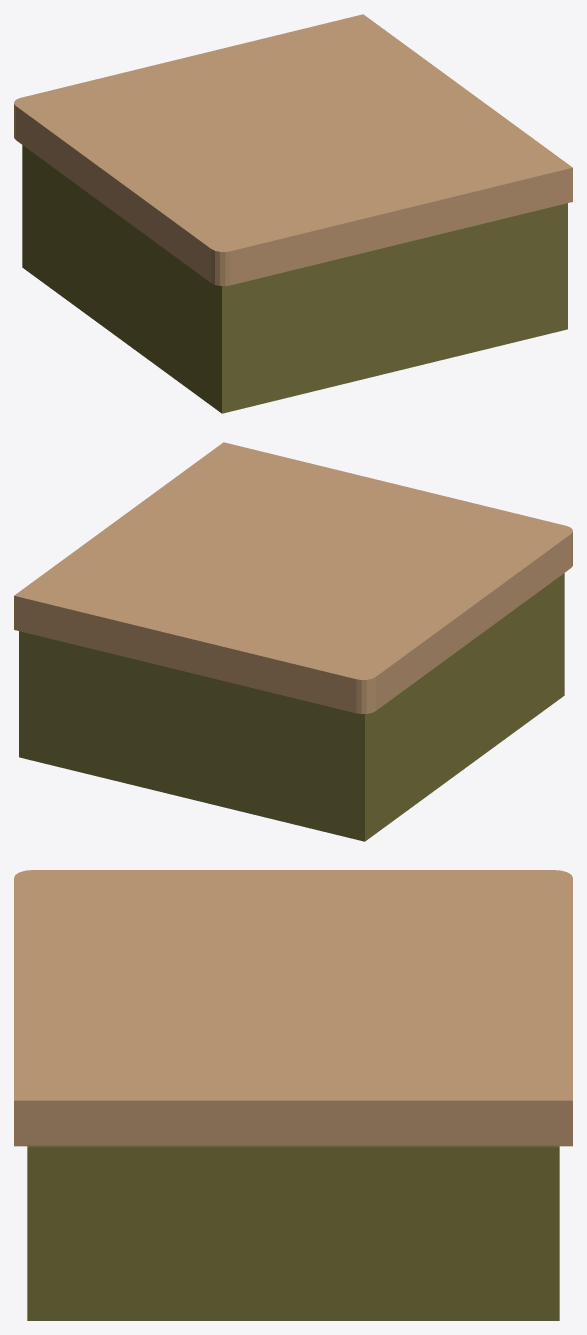
The model's file is Counter3CornorSide.fbx.
The picture shows the model from 3 angles, top to bottom: view 1: azimuth 30°, elevation 25°; view 2: azimuth 150°, elevation 25°; view 3: azimuth 270°, elevation 25°; orthographic projection. The views are drawn at different scales.
Parts seen in each view (by area): view 1: Counter.004; view 2: Counter.004; view 3: Counter.004.
Boxes of the visible parts, <box> form: Counter.004: <box>14,14,572,413</box>; Counter.004: <box>14,442,572,841</box>; Counter.004: <box>14,870,572,1320</box>.
Bounding box in the file's own units: 123 × 54.8 × 126.
